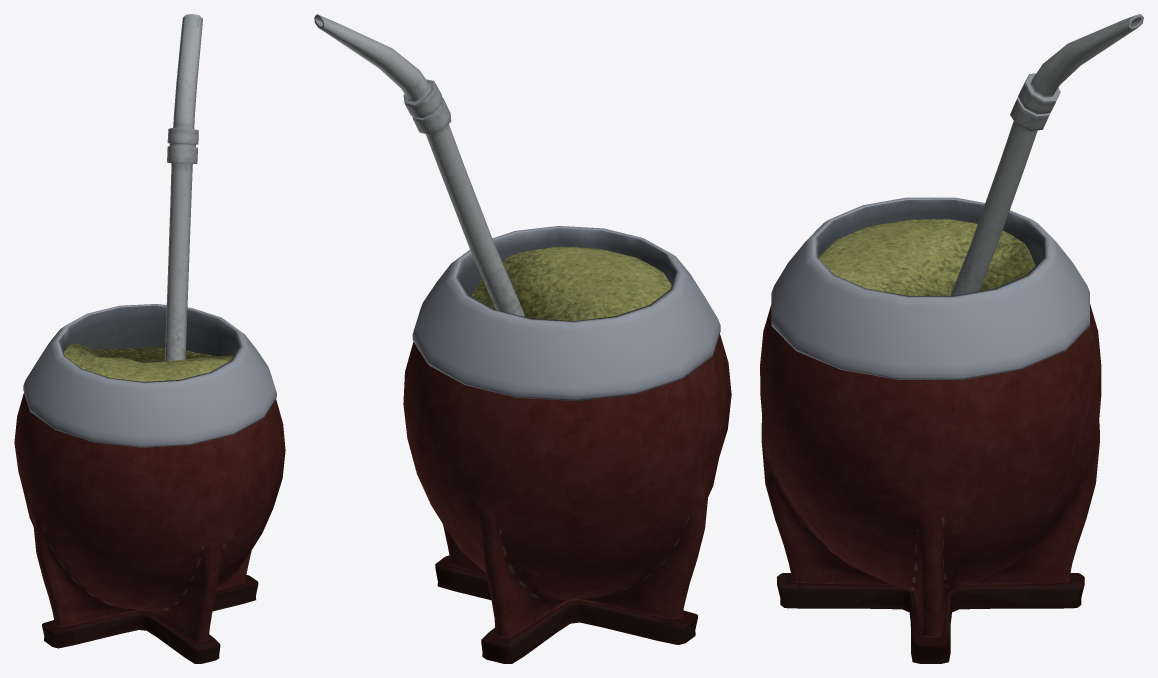
File: mate.glb
The picture shows the model from 3 angles, left to right: view 1: azimuth 30°, elevation 25°; view 2: azimuth 150°, elevation 25°; view 3: azimuth 270°, elevation 25°; orthographic projection. The views are drawn at different scales.
Parts seen in each view (by area): view 1: MateFull3, MateFull1, MateFull, MateFull2; view 2: MateFull3, MateFull1, MateFull2, MateFull; view 3: MateFull3, MateFull1, MateFull2, MateFull.
Part boxes in pixels (<box>): MateFull3: <box>14,393,285,663</box>; MateFull1: <box>23,304,276,447</box>; MateFull: <box>164,14,202,361</box>; MateFull2: <box>63,343,233,381</box>; MateFull3: <box>403,334,731,663</box>; MateFull1: <box>412,226,720,400</box>; MateFull2: <box>471,246,671,320</box>; MateFull: <box>314,14,524,316</box>; MateFull3: <box>760,304,1101,663</box>; MateFull1: <box>771,197,1089,379</box>; MateFull2: <box>819,219,1035,295</box>; MateFull: <box>950,14,1143,295</box>.
Bounding box in the file's own units: 0.995 × 2 × 1.05.
Materials: 4 (4 with a texture image).
